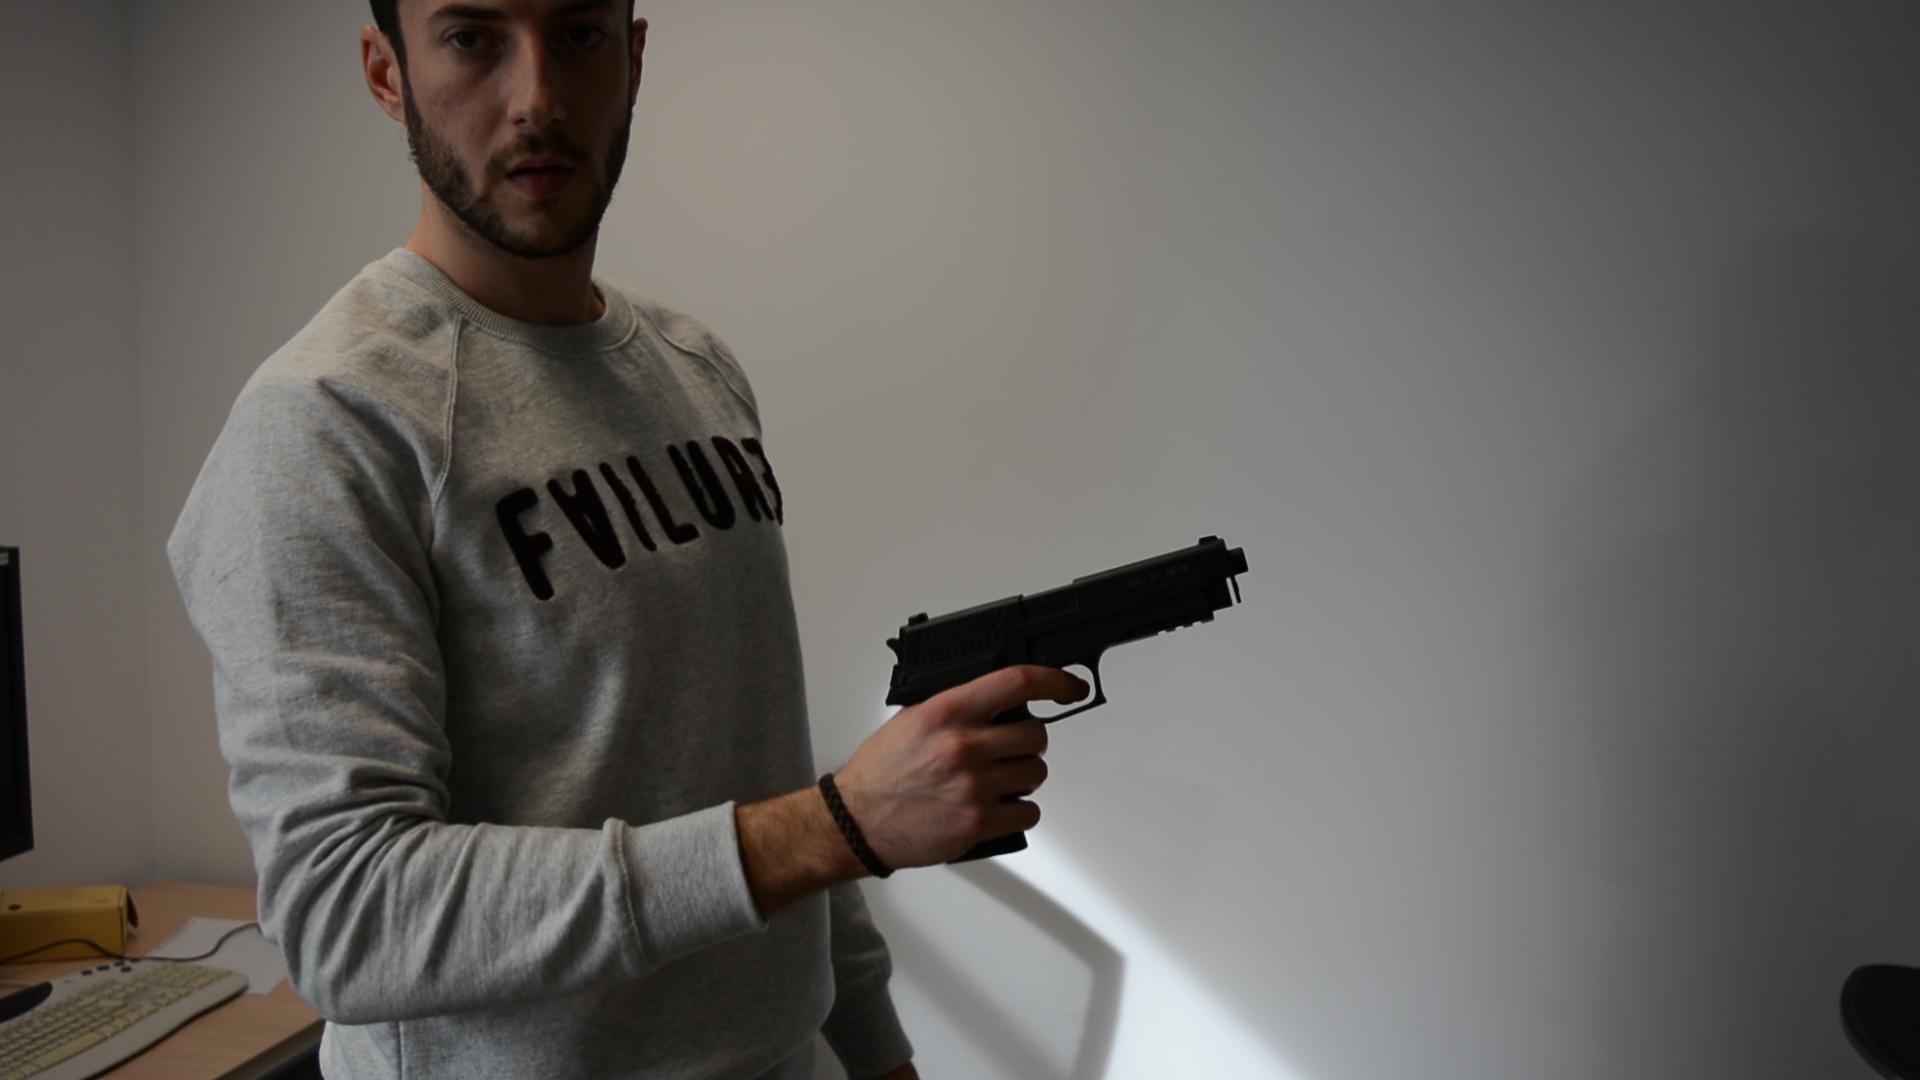pistol: (884, 533, 1251, 866)
